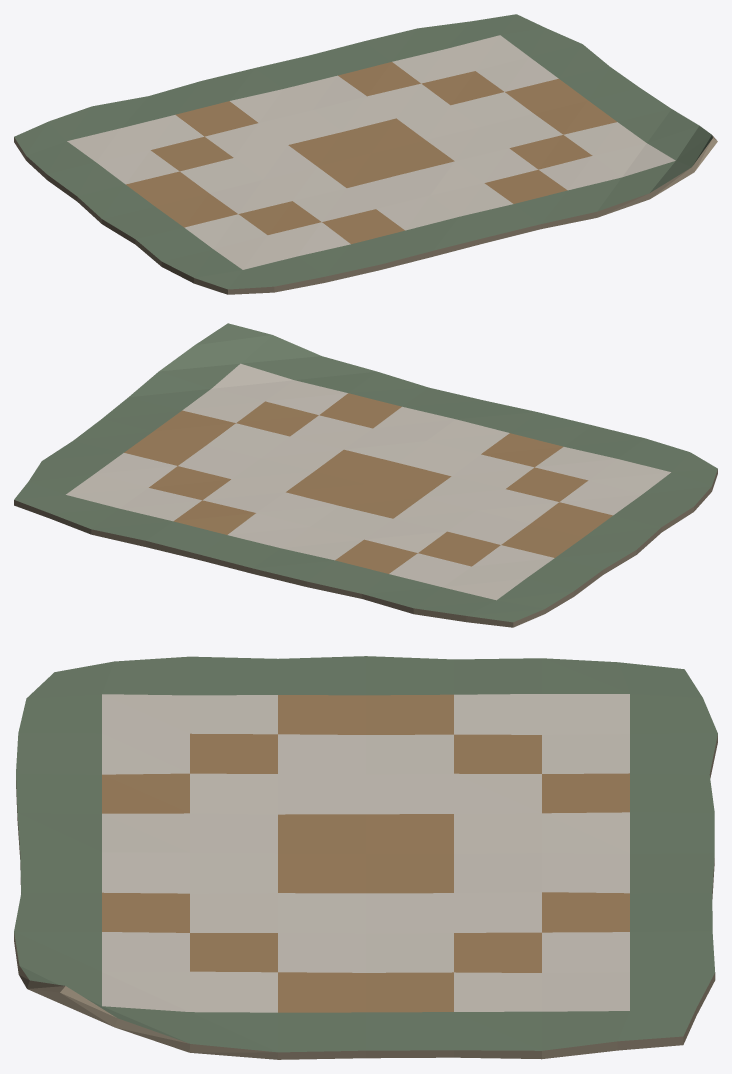
Rendered from area-rug-5c56e2.glb.
The picture shows the model from 3 angles, top to bottom: view 1: azimuth 30°, elevation 25°; view 2: azimuth 150°, elevation 25°; view 3: azimuth 270°, elevation 25°; orthographic projection. The views are drawn at different scales.
Visible parts, largest first — view 1: area-rug; view 2: area-rug; view 3: area-rug.
Boxes of the visible parts, left/top/right/bottom form: area-rug: left=14, top=14, right=717, bottom=294; area-rug: left=14, top=323, right=717, bottom=627; area-rug: left=14, top=656, right=717, bottom=1059.
Bounding box in the file's own units: 2 × 0.1232 × 1.5.
